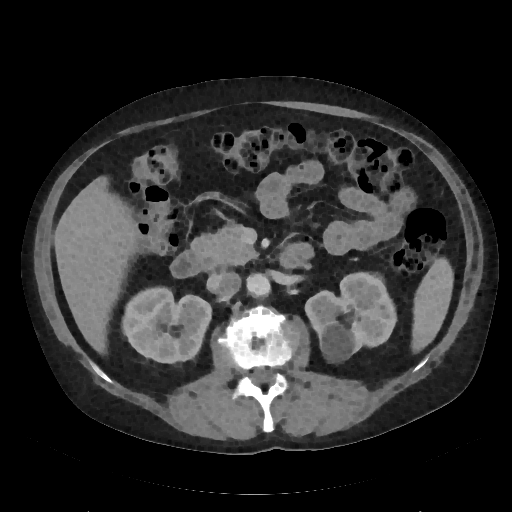Lesion: (318, 318, 357, 372)
